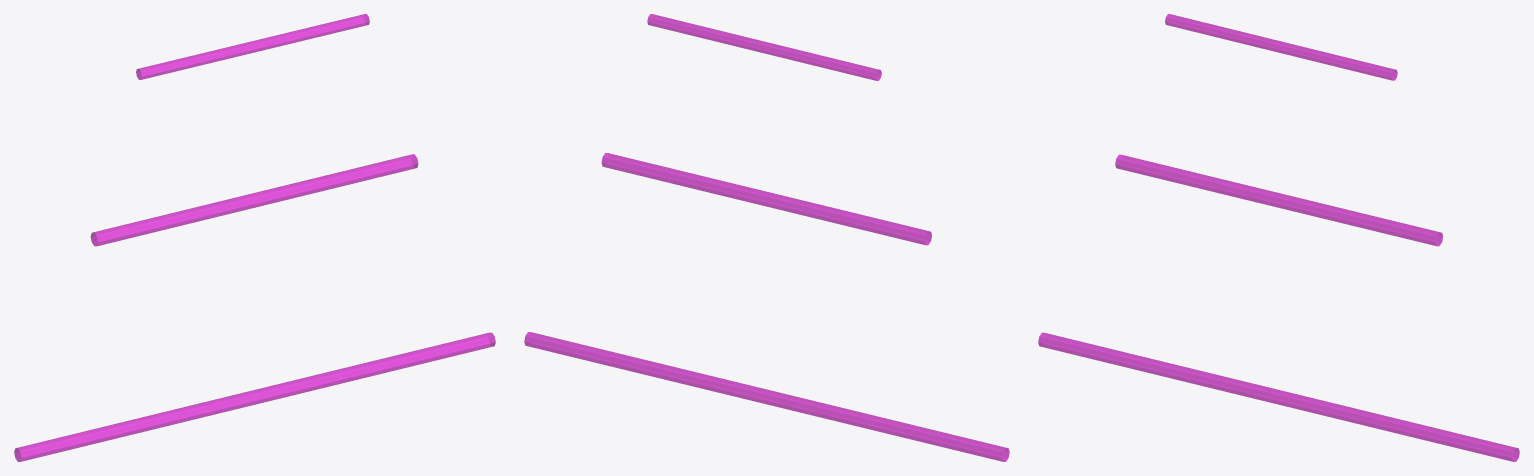
Rendered from SM_Veh_Ship_L_Mast_Middle_01_Boom_01_Collision.fbx.
3 views of the same model, side by side, from view 1: azimuth 30°, elevation 25°; view 2: azimuth 150°, elevation 25°; view 3: azimuth 330°, elevation 25° (orthographic).
Visible parts, largest first — view 1: SM_Veh_Ship_L_Mast_Middle_01_Boom_01_Collision; view 2: SM_Veh_Ship_L_Mast_Middle_01_Boom_01_Collision; view 3: SM_Veh_Ship_L_Mast_Middle_01_Boom_01_Collision.
Boxes of the visible parts, <box> form: SM_Veh_Ship_L_Mast_Middle_01_Boom_01_Collision: <box>14,14,495,461</box>; SM_Veh_Ship_L_Mast_Middle_01_Boom_01_Collision: <box>524,14,1009,461</box>; SM_Veh_Ship_L_Mast_Middle_01_Boom_01_Collision: <box>1038,14,1519,461</box>.
Size of the model in its own units: 2129 by 1548 by 72.45.
